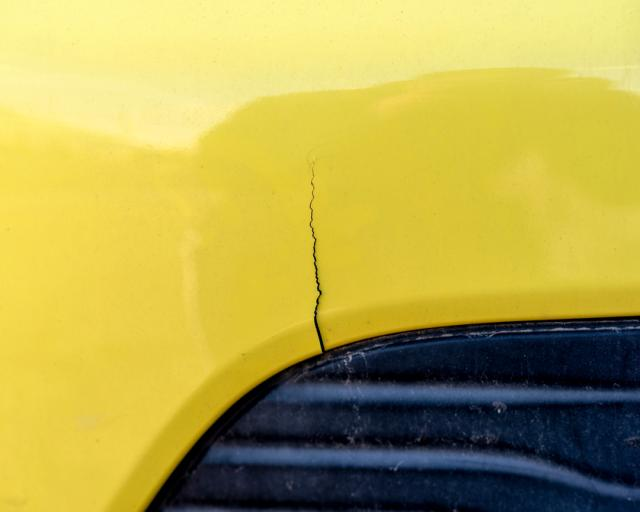crack: (309, 156, 326, 353)
